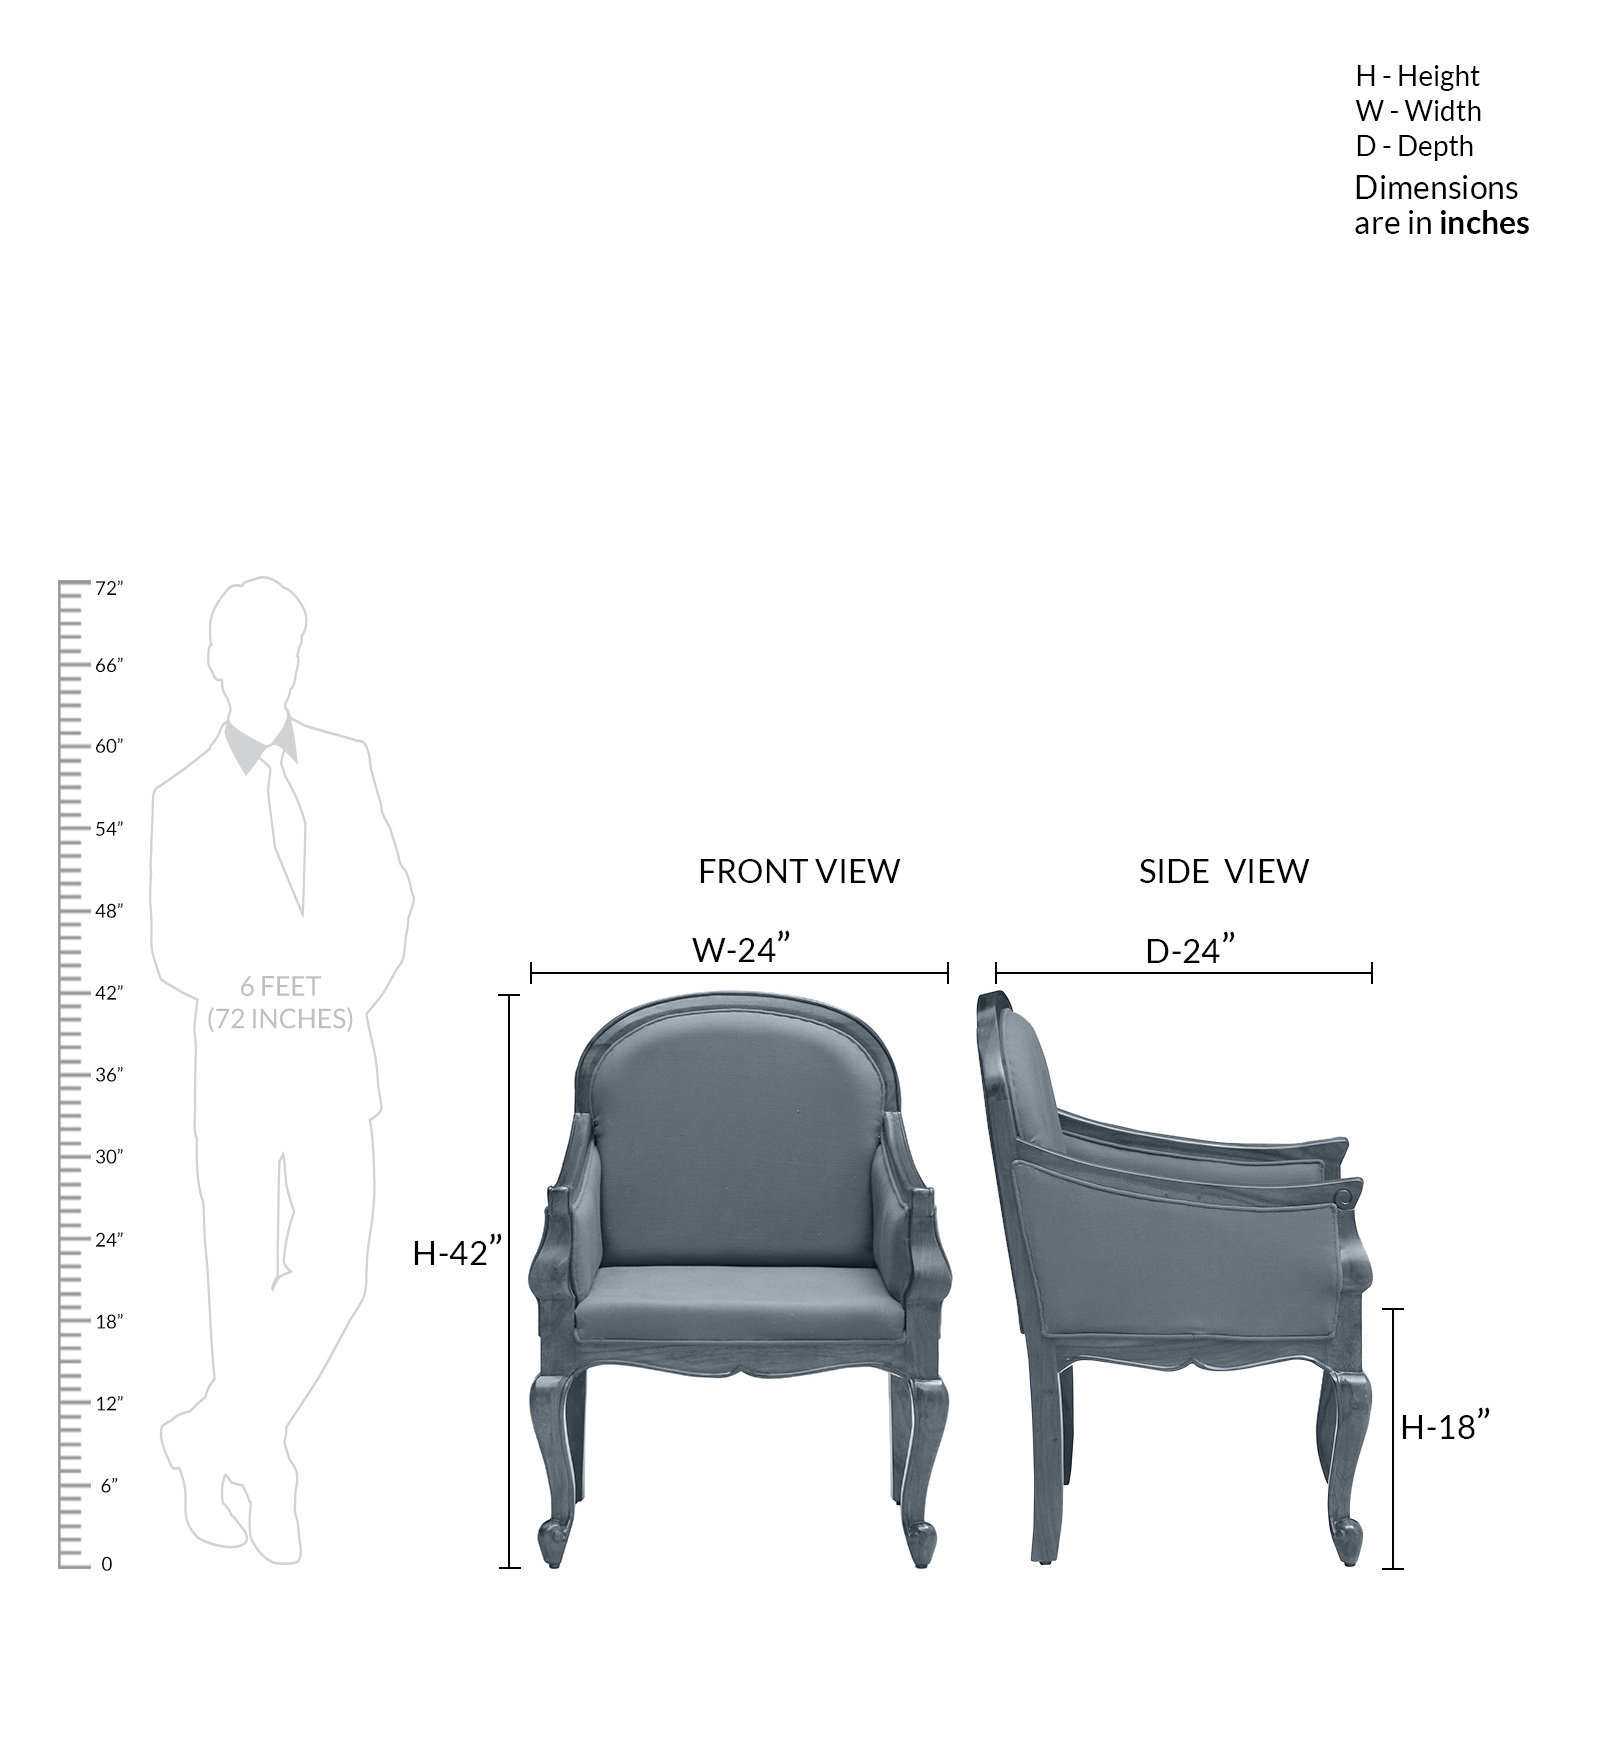Clifford Arm Chair in Honey Oak Finish by Amberville: (516, 980, 962, 1607), (969, 990, 1392, 1601)
